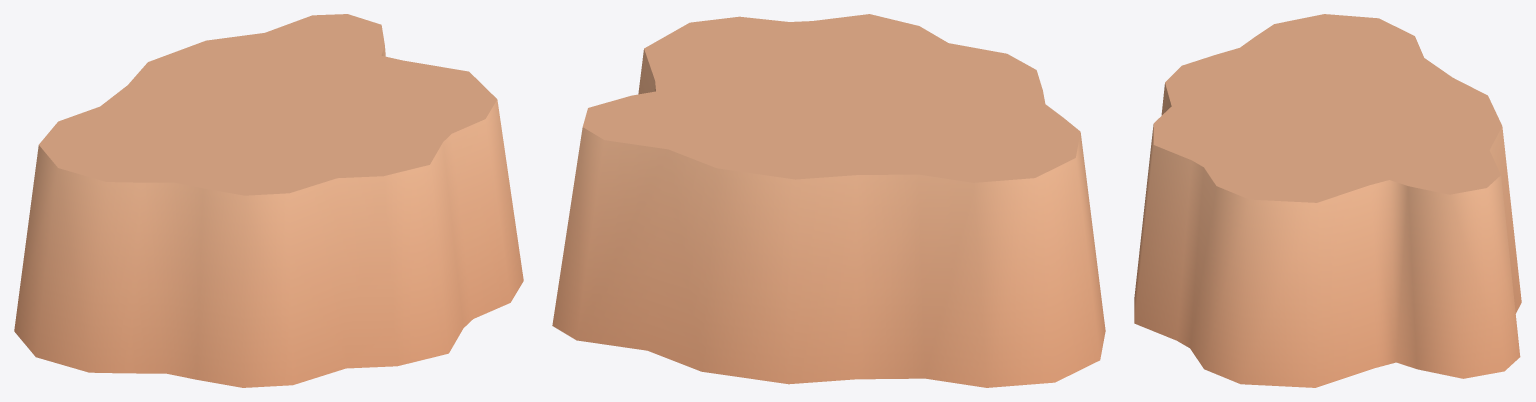
File: island-sand.glb
3 renders of one model, left to right at view 1: azimuth 30°, elevation 25°; view 2: azimuth 150°, elevation 25°; view 3: azimuth 270°, elevation 25°, orthographic. The views are drawn at different scales.
Parts seen in each view (by area): view 1: patch-sand; view 2: patch-sand; view 3: patch-sand.
Boxes of the visible parts, x1,y1,x2,y2 form: patch-sand: (14, 14, 523, 387); patch-sand: (552, 14, 1105, 387); patch-sand: (1134, 14, 1521, 387).
Bounding box in the file's own units: 10.06 × 3.9 × 7.85.
Materials: 1 (1 with a texture image).
